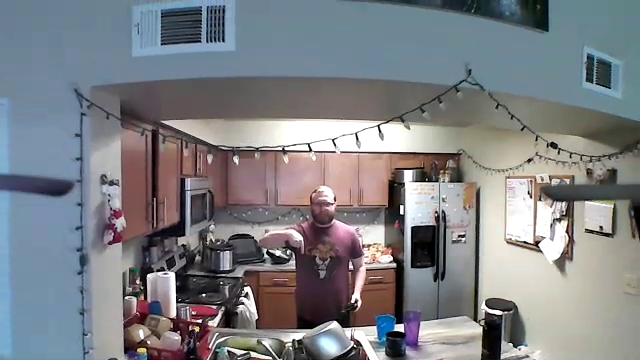down: (284, 224, 307, 258)
